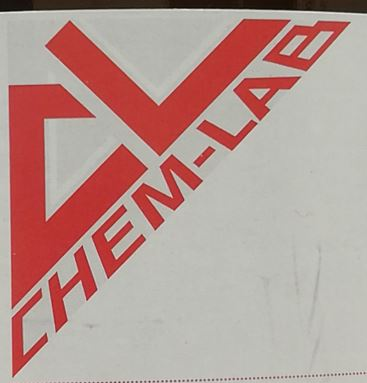ChemLab: (5, 17, 355, 378)
